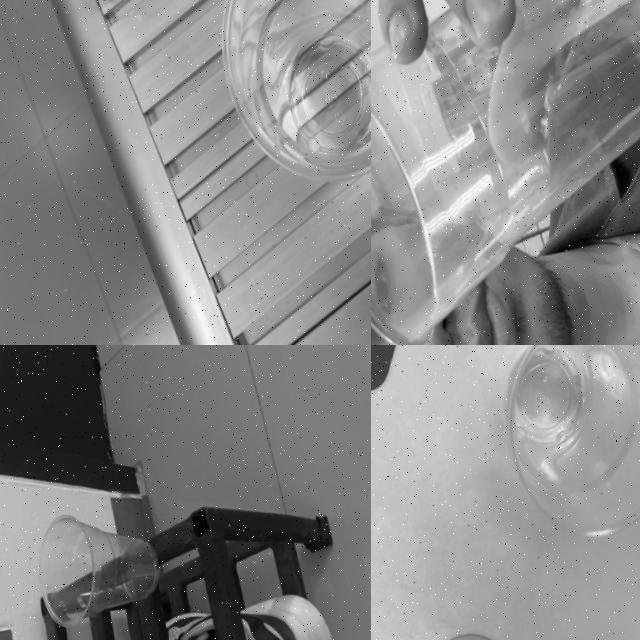glass: (371, 0, 640, 345), (206, 0, 371, 197), (493, 345, 640, 545), (34, 499, 174, 629)
